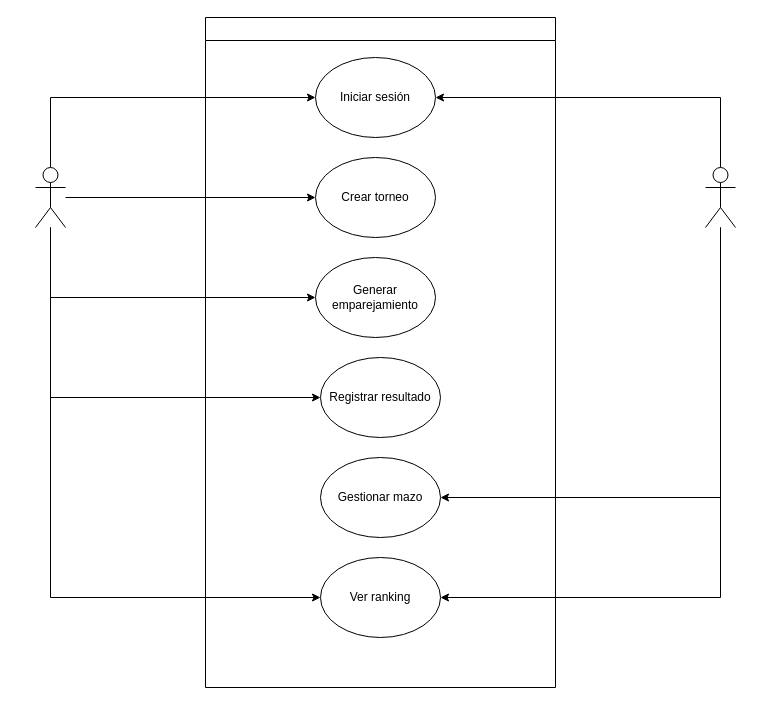
Some shapes in this 759 by 705 pixel diagram are drawn without their labels. Here are the shapes that lost their labels. From the top down, the box of each, then its label:
(34, 166, 66, 228): Organizador
(704, 166, 736, 228): Jugador
(204, 16, 556, 688): Sistema de Torre de cartas
